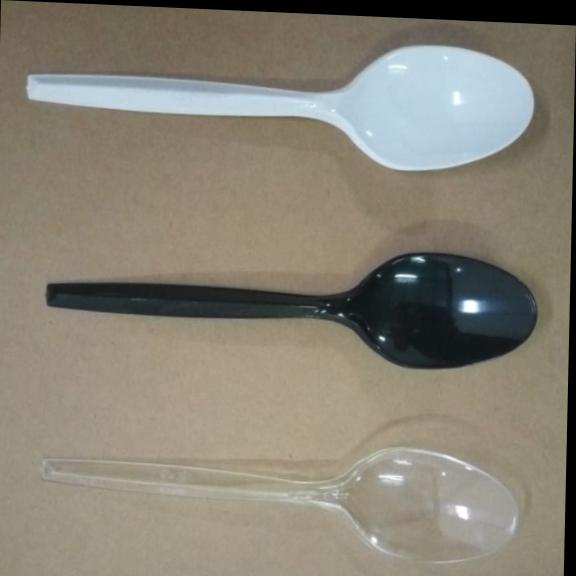Plastik: (27, 46, 532, 170), (46, 253, 536, 369), (40, 447, 516, 562)
